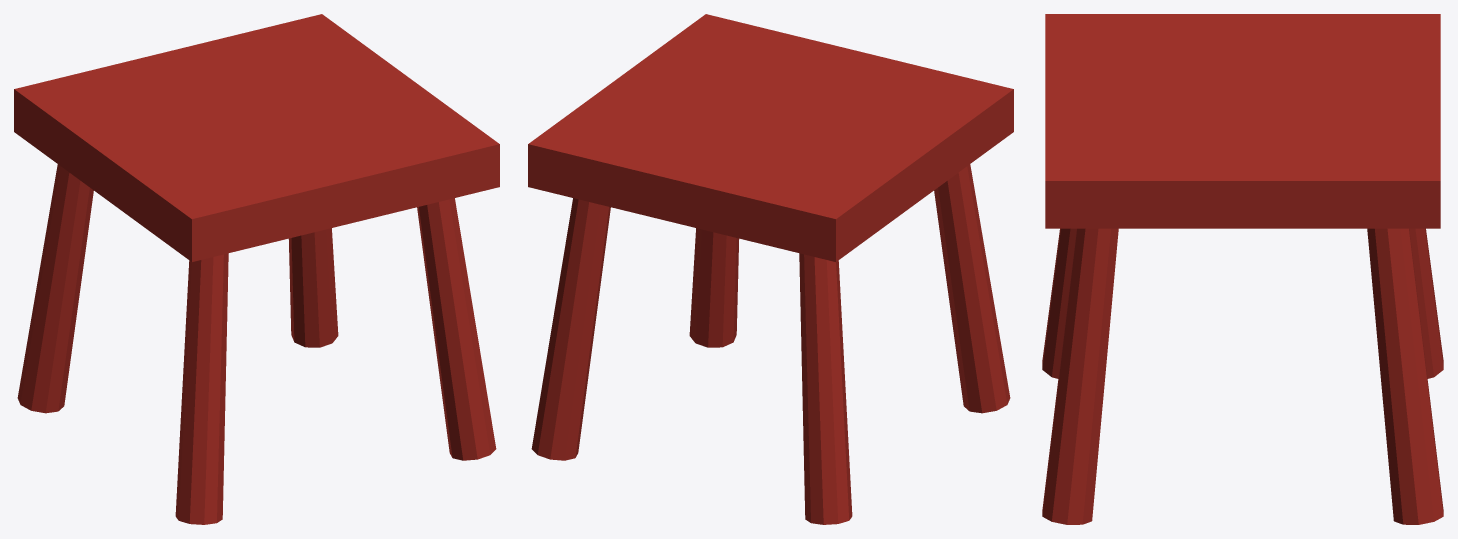
File: ghe_do.glb
3 views of the same model, side by side, from view 1: azimuth 30°, elevation 25°; view 2: azimuth 150°, elevation 25°; view 3: azimuth 270°, elevation 25° (orthographic). The views are drawn at different scales.
Visible parts, largest first — view 1: ghe_do; view 2: ghe_do; view 3: ghe_do.
Part boxes in pixels (x1,y1,x2,y2): ghe_do: [14, 14, 499, 524]; ghe_do: [528, 14, 1013, 524]; ghe_do: [1042, 14, 1443, 524].
Size of the model in its own units: 0.3066 by 0.2914 by 0.3048.
